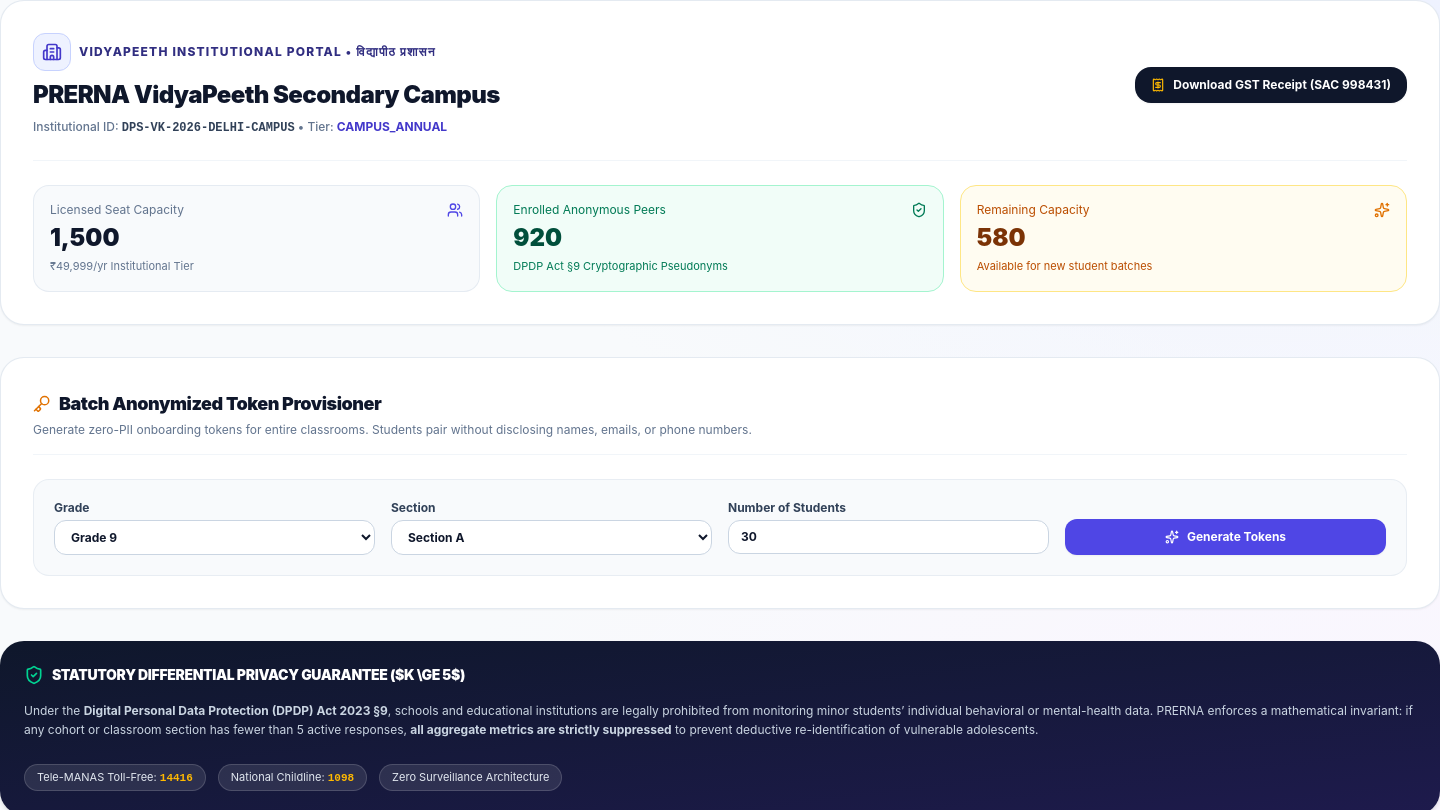
InstitutionalAdminPortal Component › generates pseudonymous batch tokens without any student PII
The width and height of the screenshot is (1440, 810).
Click the button "Generate Tokens" at coordinates (1226, 536), box [1065,518,1386,554]
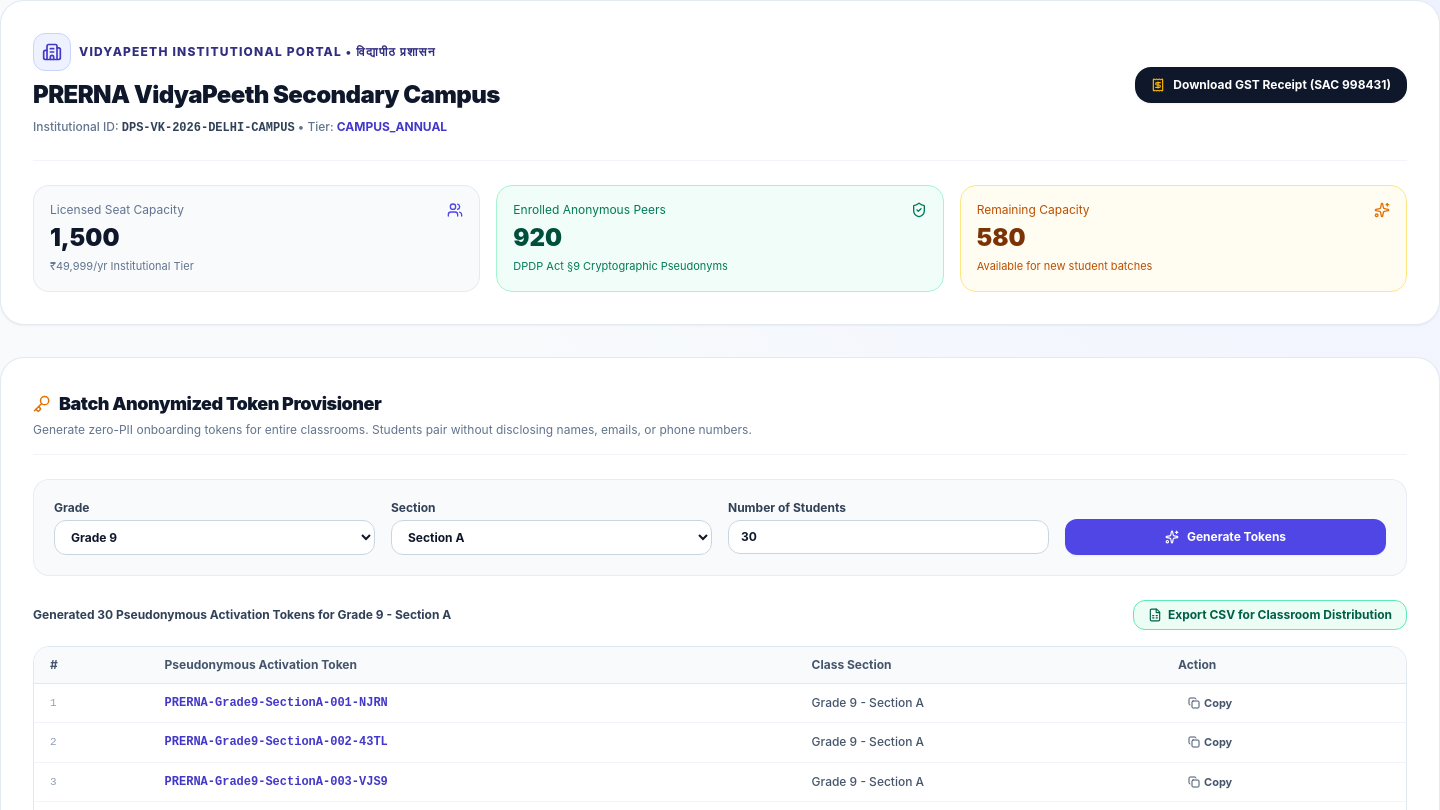
Now the text "Pseudonymous Activation Token" is shown, box [113,606,338,622]
Now the text "PRERNA-Grade9-SectionA-" is shown, box [165,696,388,710]
